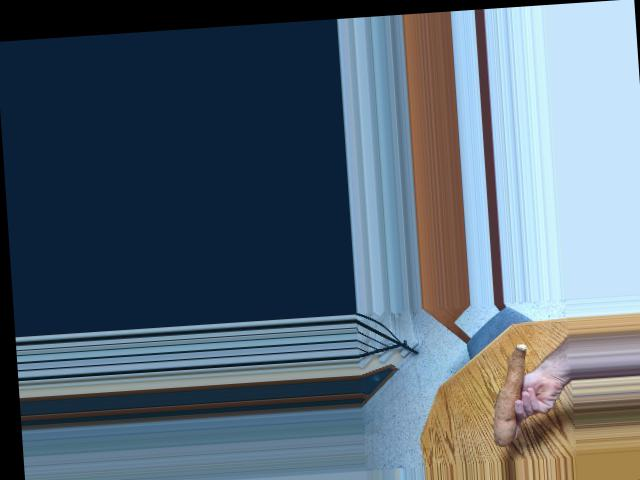sweet_potato: (481, 340, 533, 444)
